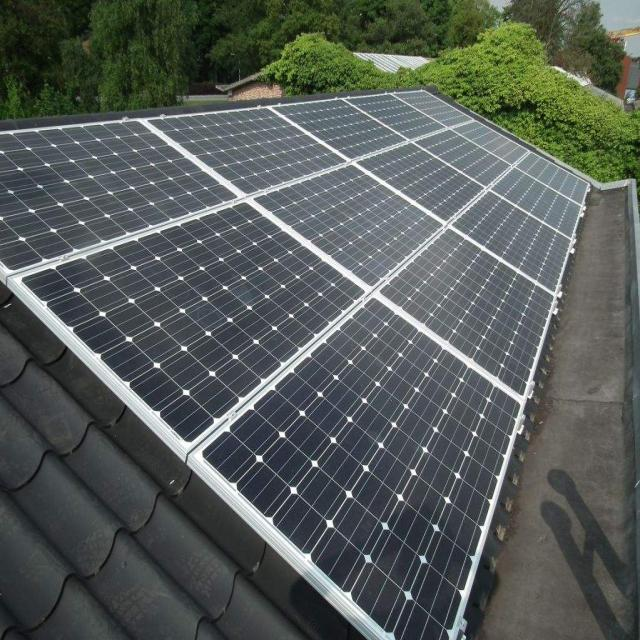clean-solar-panel: (1, 90, 589, 638)
